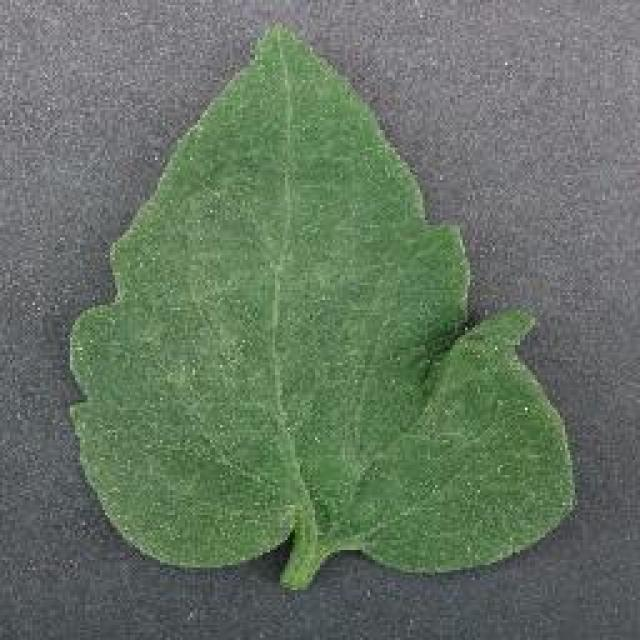Tomato healthy leaf: (72, 24, 580, 584)
